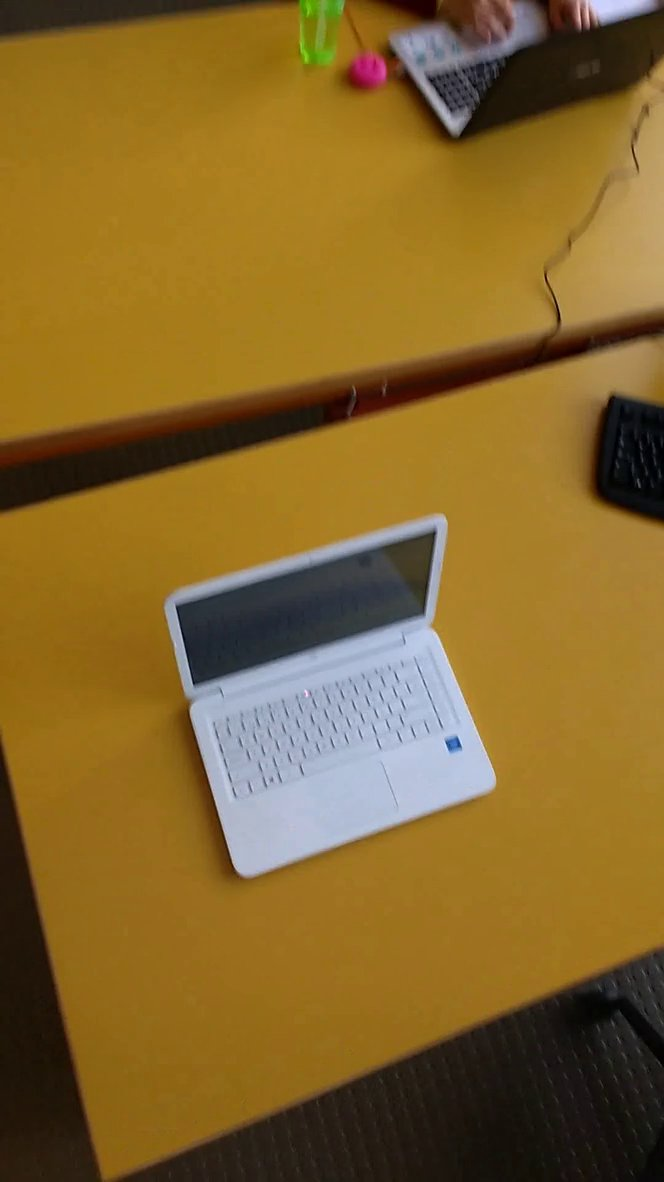laptop: (159, 506, 504, 887)
